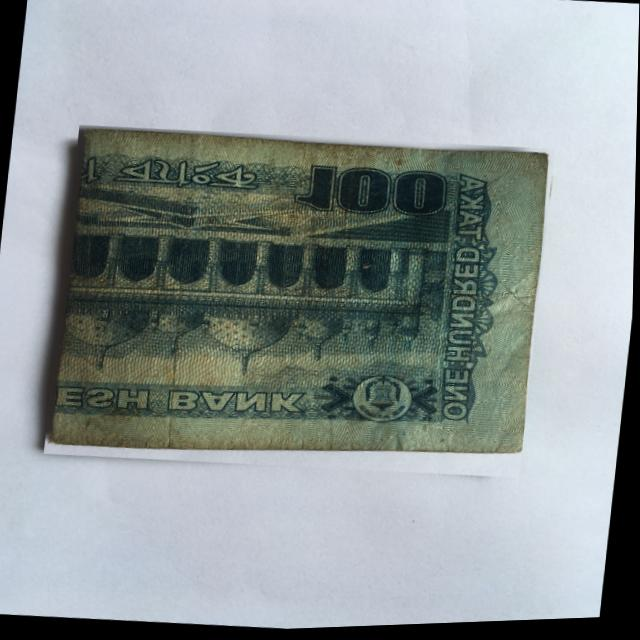Taka: (44, 111, 556, 495)
